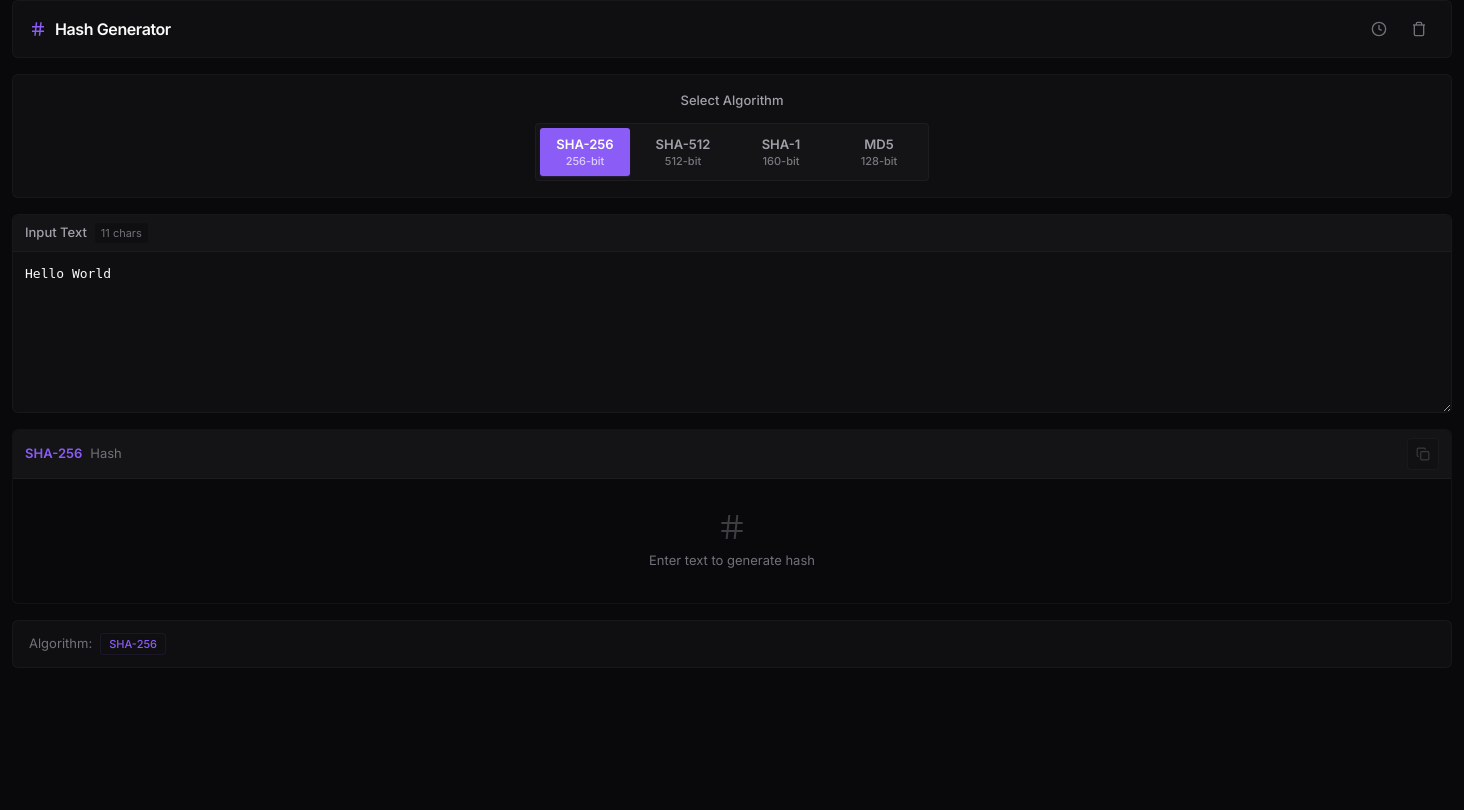
Test: HashTool › should update hash algorithm display when algorithm changes
This screenshot has width=1464, height=810.
Expected: the text with class "hash-type" is shown, [25,444,82,464]
Expected: the text with class "hash-type" reads "SHA-256", [25,445,82,461]
What coordinates should you click on to do the following:
click the radio button with aria-label "SHA-1 160-bit hash algorithm"
I would click on:
 (781, 152)
Its box is [736,128,826,176].
Wait 150 ms
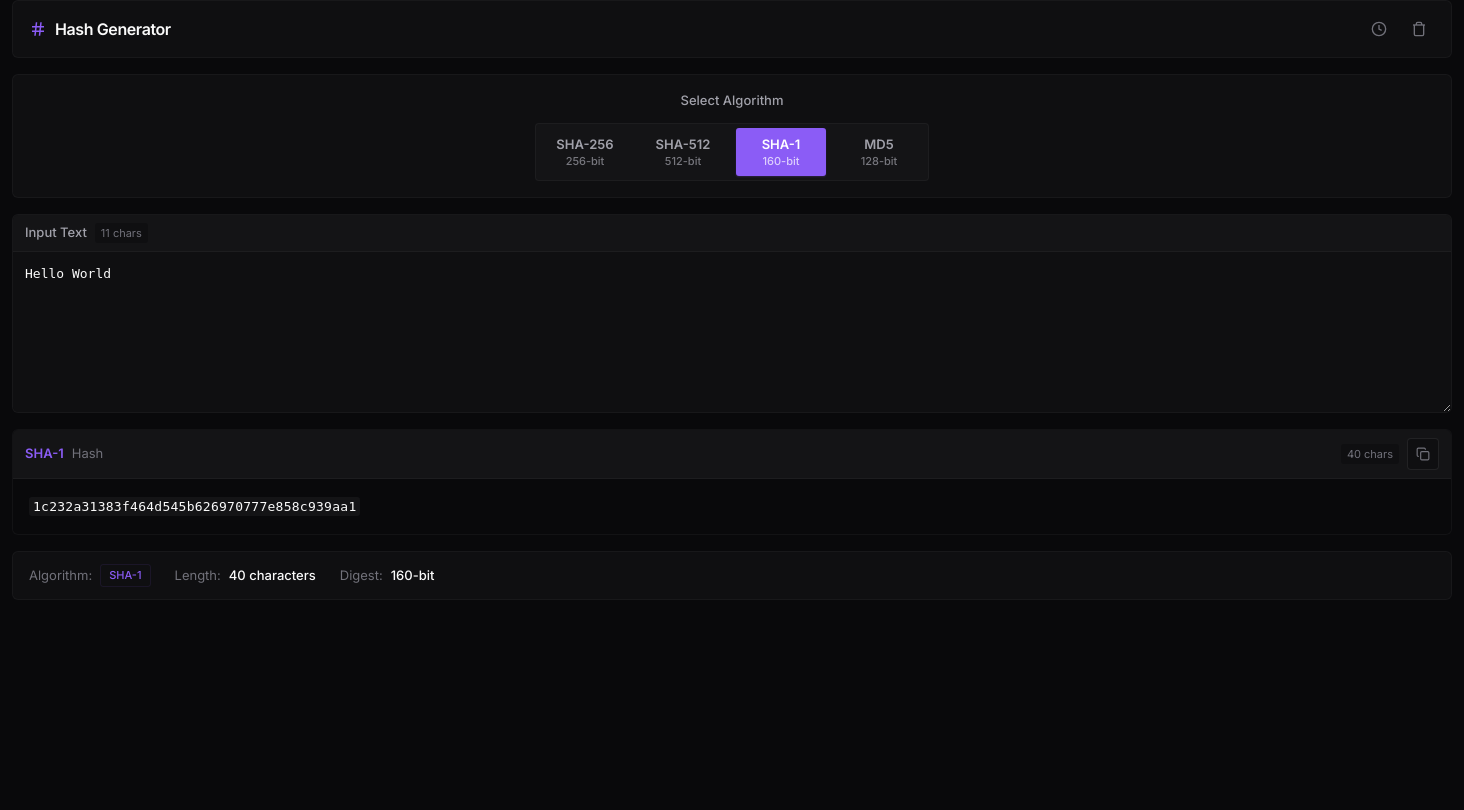
Expected: the text with class "hash-type" is shown, [25,444,64,464]
Expected: the text with class "hash-type" reads "SHA-1", [25,445,64,461]
